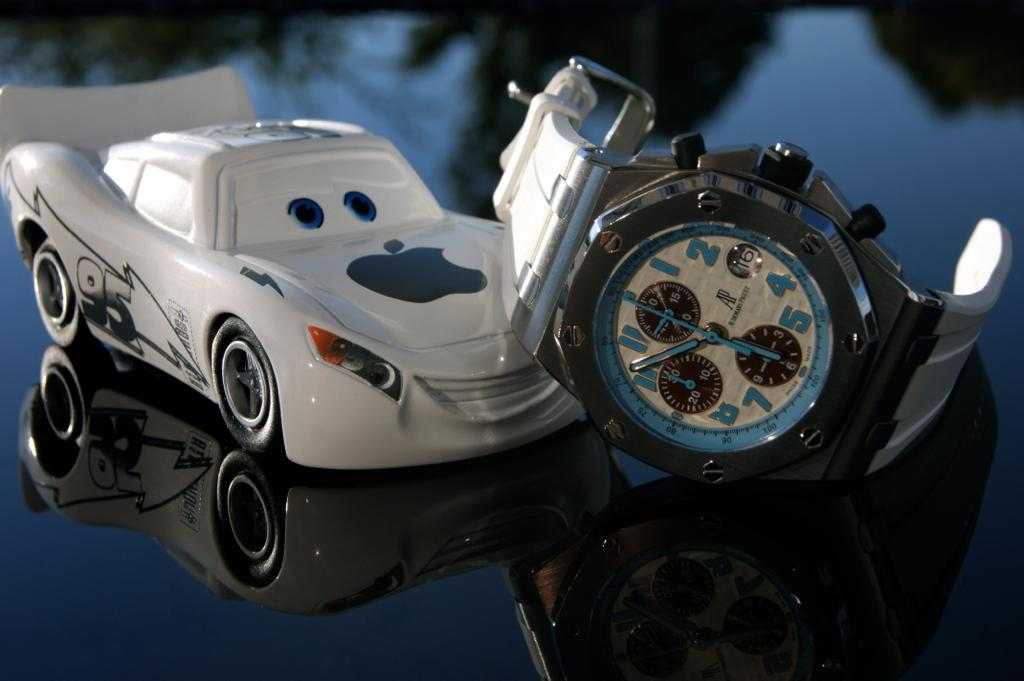watch: (492, 58, 1013, 499)
